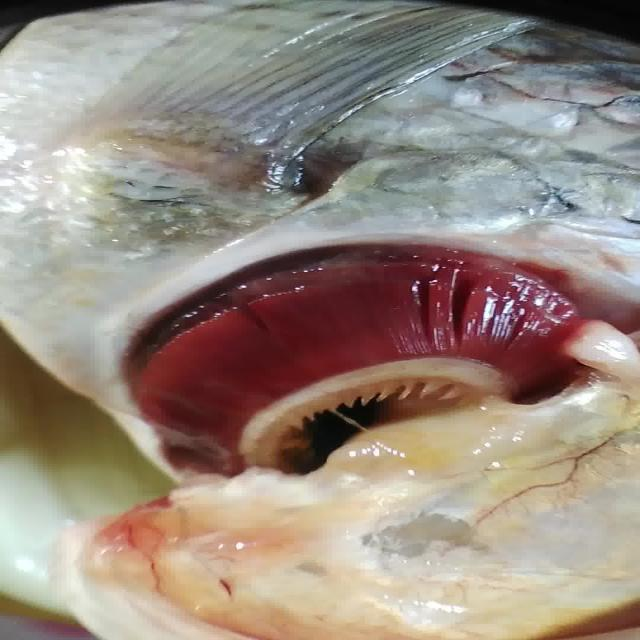Fresh: (91, 232, 610, 487)
